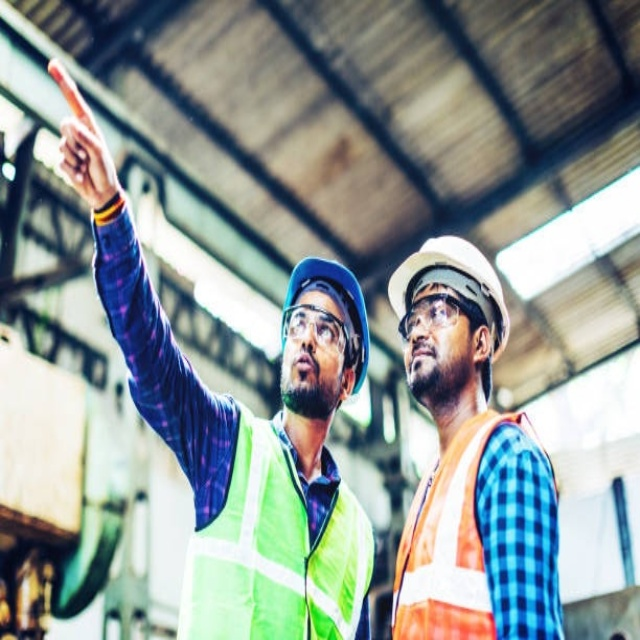Gafas: (282, 306, 354, 359), (398, 295, 476, 343)
Sin_guantes: (48, 60, 119, 212)
Sin_mascara: (283, 344, 328, 394), (403, 342, 442, 381)
